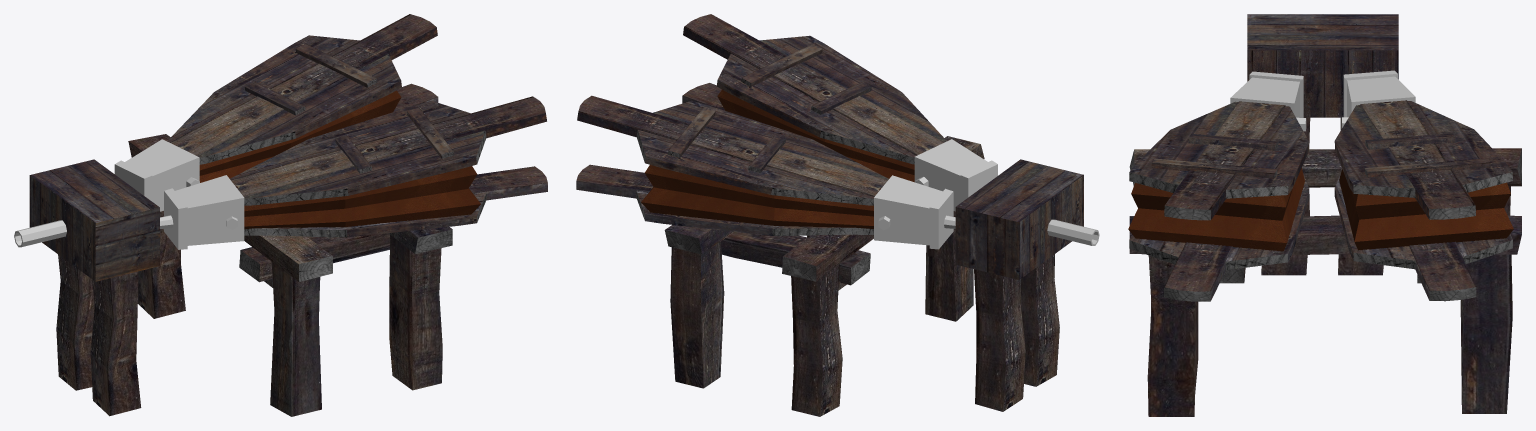
File: Bellow.fbx
3 renders of one model, left to right at view 1: azimuth 30°, elevation 25°; view 2: azimuth 150°, elevation 25°; view 3: azimuth 270°, elevation 25°, orthographic. The views are drawn at different scales.
Visible parts, largest first — view 1: Bellow; view 2: Bellow; view 3: Bellow.
Part boxes in pixels (x1=…): Bellow: x1=14, y1=14, x2=547, y2=416; Bellow: x1=576, y1=14, x2=1099, y2=416; Bellow: x1=1128, y1=14, x2=1521, y2=416.
Bounding box in the file's own units: 1.51 × 0.7383 × 0.9589.
